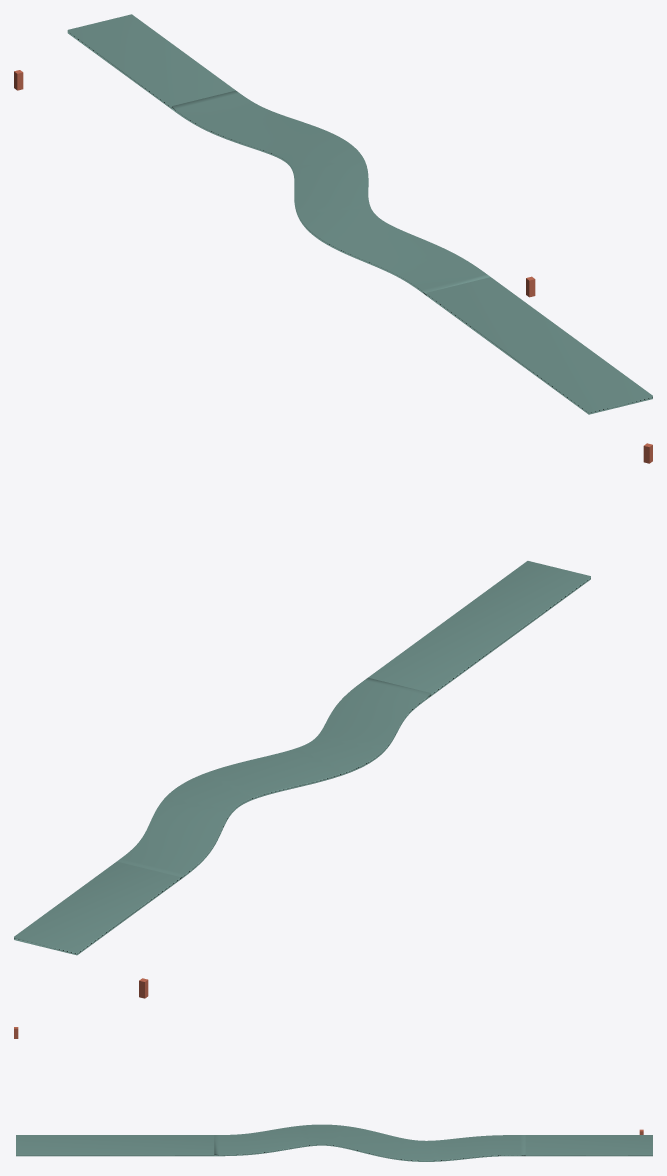
File: s-curve-study.glb
The picture shows the model from 3 angles, top to bottom: view 1: azimuth 30°, elevation 25°; view 2: azimuth 150°, elevation 25°; view 3: azimuth 270°, elevation 25°; orthographic projection. The views are drawn at different scales.
Visible parts, largest first — view 1: study-deck-render, runout-deck-render, approach-deck-render; view 2: study-deck-render, runout-deck-render, approach-deck-render; view 3: study-deck-render, runout-deck-render, approach-deck-render.
Part boxes in pixels (<box>): study-deck-render: <box>172,90,490,295</box>; runout-deck-render: <box>426,277,652,414</box>; approach-deck-render: <box>67,14,235,109</box>; study-deck-render: <box>117,678,430,879</box>; runout-deck-render: <box>368,561,590,696</box>; approach-deck-render: <box>14,861,179,955</box>; study-deck-render: <box>214,1124,525,1161</box>; runout-deck-render: <box>16,1135,214,1156</box>; approach-deck-render: <box>525,1135,652,1156</box>.
Size of what is drawn, in the model's own units: 76 by 88 by 452.
